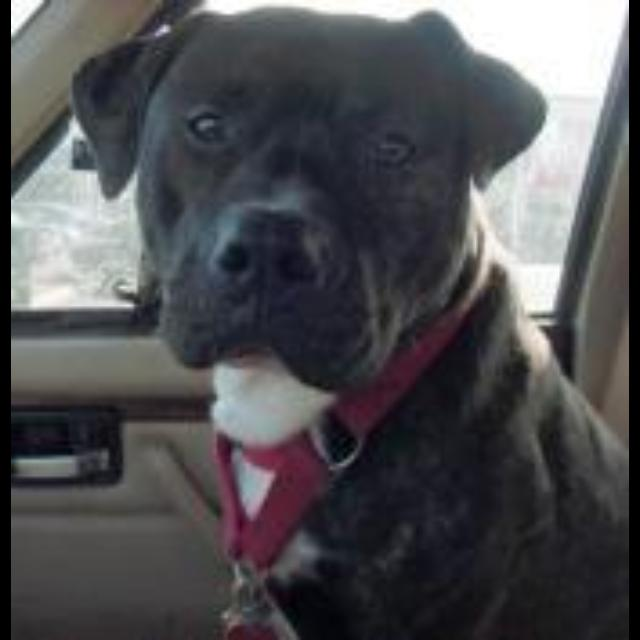amstaff: (70, 1, 626, 637)
